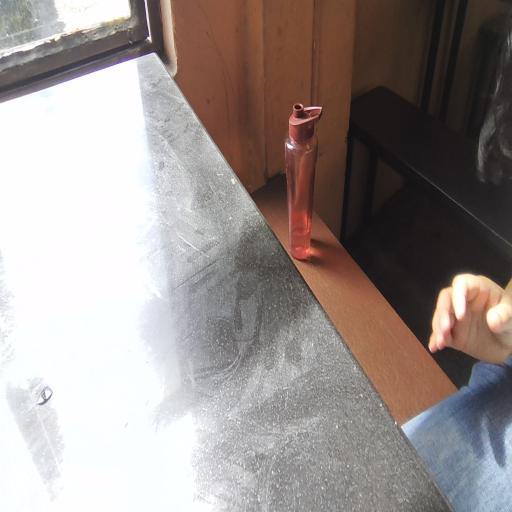Bottle: (278, 101, 330, 262)
